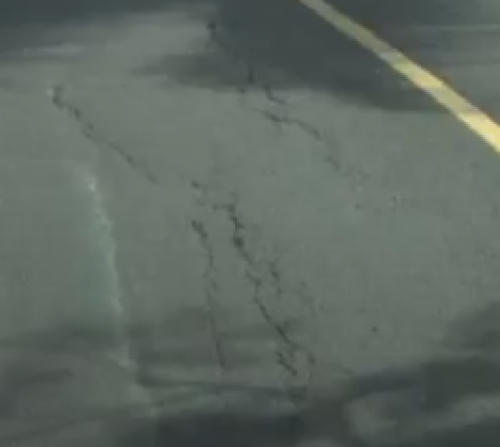Retak Memanjang: (31, 33, 387, 430)
